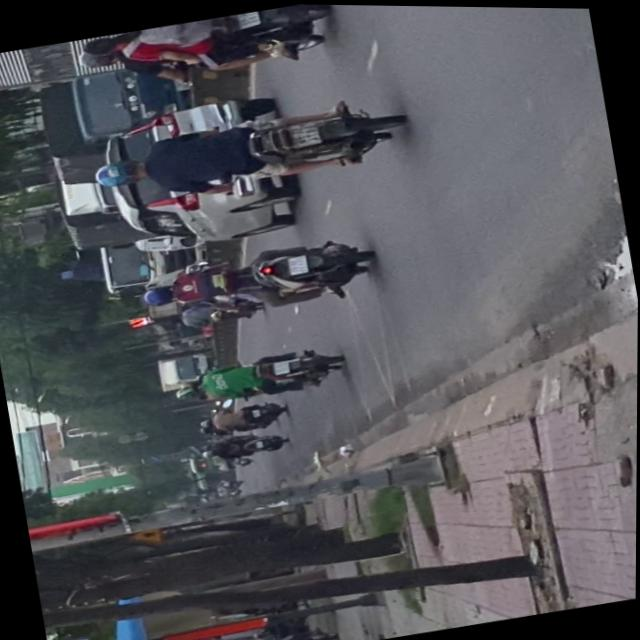helmet: (91, 153, 148, 189), (77, 44, 123, 69), (140, 280, 177, 306)
licenseplate: (83, 81, 410, 215), (73, 1, 341, 97), (134, 225, 379, 330)
motorcyclist: (79, 28, 138, 57)
nohelmet: (289, 118, 320, 146), (286, 252, 309, 272), (235, 9, 258, 26)
